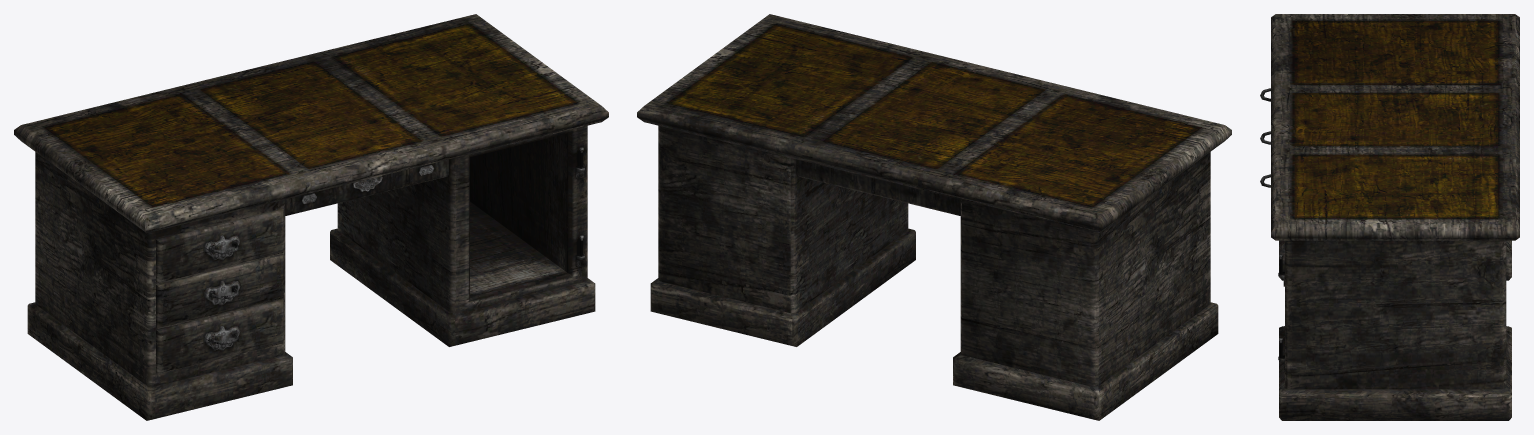
Rendered from work_desk02_worn.dae.
The picture shows the model from 3 angles, left to right: view 1: azimuth 30°, elevation 25°; view 2: azimuth 150°, elevation 25°; view 3: azimuth 270°, elevation 25°; orthographic projection. The views are drawn at different scales.
Visible parts, largest first — view 1: work_desk_table_mesh, work_desk_drawer01_me, work_desk_drawer03_me, work_desk_drawer02_me; view 2: work_desk_table_mesh; view 3: work_desk_table_mesh.
Part boxes in pixels (x1,y1,x2,y2): work_desk_table_mesh: (14, 14, 608, 420); work_desk_drawer01_me: (156, 208, 283, 283); work_desk_drawer03_me: (156, 299, 283, 373); work_desk_drawer02_me: (156, 254, 283, 328); work_desk_table_mesh: (637, 14, 1231, 420); work_desk_table_mesh: (1271, 14, 1519, 420).
Size of the model in its own units: 2.34 by 1 by 1.2.
